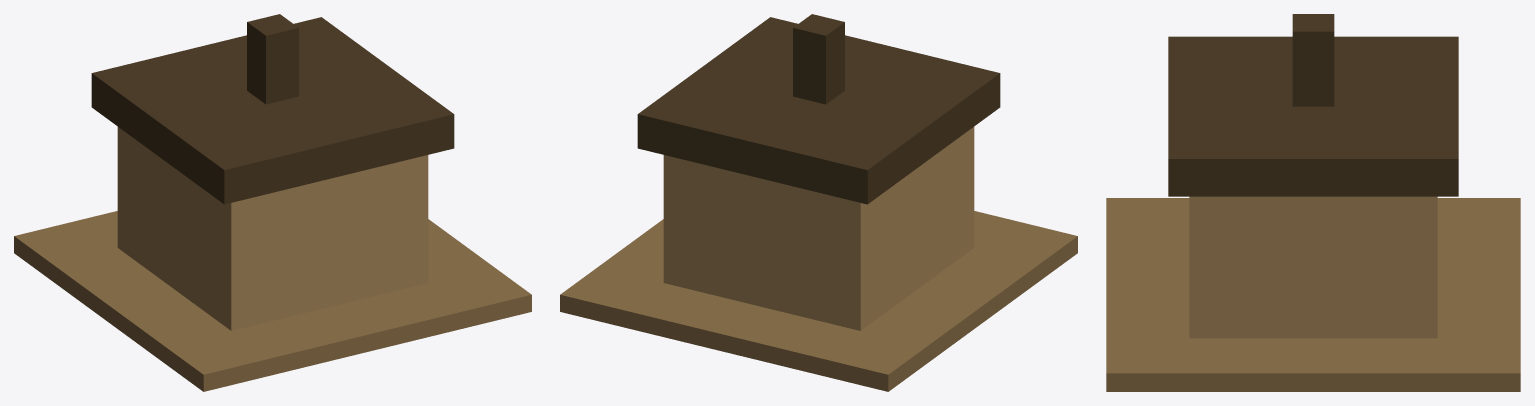
Rendered from zone-library.glb.
The picture shows the model from 3 angles, left to right: view 1: azimuth 30°, elevation 25°; view 2: azimuth 150°, elevation 25°; view 3: azimuth 270°, elevation 25°; orthographic projection. The views are drawn at different scales.
Visible parts, largest first — view 1: body, roof, ground, spire; view 2: body, roof, ground, spire; view 3: ground, roof, body, spire.
Part boxes in pixels (left/top/right/bottom): body: left=117, top=127, right=428, bottom=330; roof: left=91, top=17, right=454, bottom=204; ground: left=14, top=211, right=531, bottom=391; spire: left=247, top=14, right=298, bottom=104; body: left=663, top=127, right=974, bottom=330; roof: left=637, top=17, right=1000, bottom=204; ground: left=560, top=211, right=1077, bottom=391; spire: left=793, top=14, right=844, bottom=104; ground: left=1106, top=198, right=1520, bottom=391; roof: left=1168, top=36, right=1458, bottom=196; body: left=1189, top=196, right=1437, bottom=338; spire: left=1292, top=14, right=1334, bottom=106.
Size of the model in its own units: 4 by 3 by 4.
